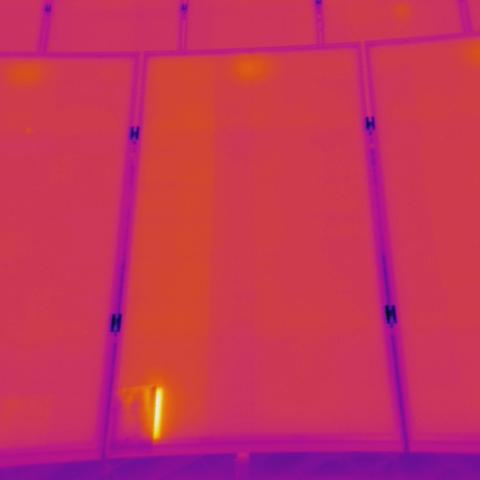fault: (116, 380, 170, 456)
